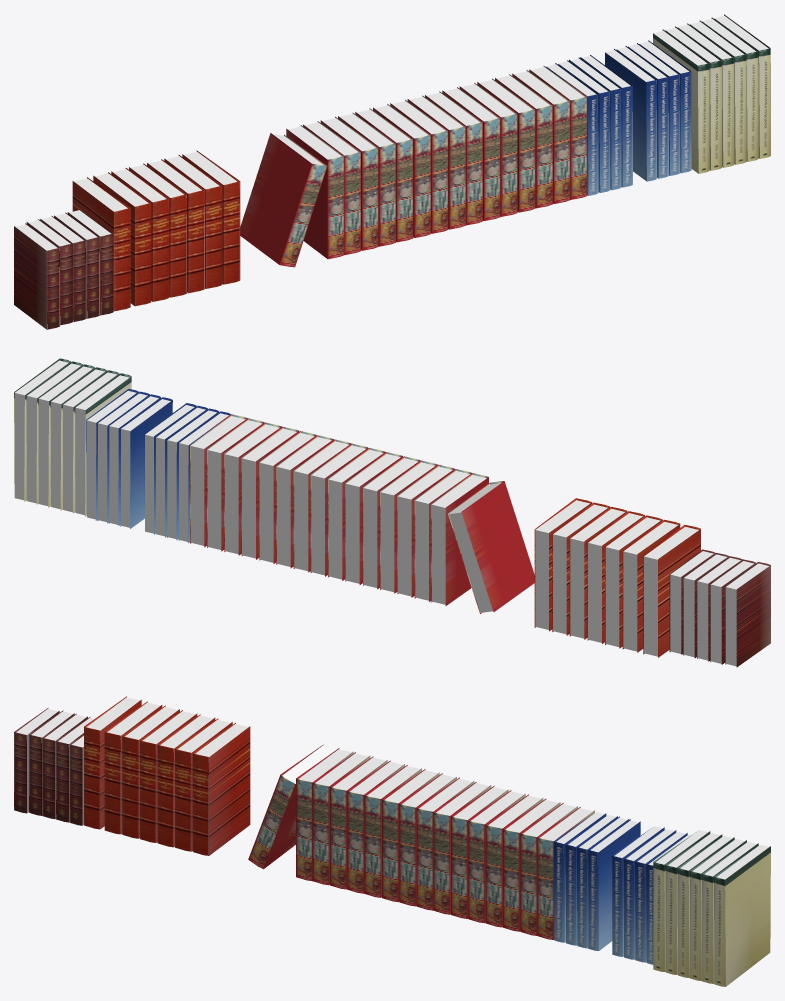
File: books 3.FBX
3 views of the same model, one above another, from view 1: azimuth 30°, elevation 25°; view 2: azimuth 150°, elevation 25°; view 3: azimuth 330°, elevation 25° (orthographic).
Parts seen in each view (by area): view 1: books 3; view 2: books 3; view 3: books 3.
Boxes of the visible parts, bbox=[...] form: books 3: bbox=[14, 14, 770, 329]; books 3: bbox=[14, 358, 770, 667]; books 3: bbox=[14, 696, 770, 986].
Bounding box in the file's own units: 156 × 22.51 × 18.12.
1 material, 1 textured.
